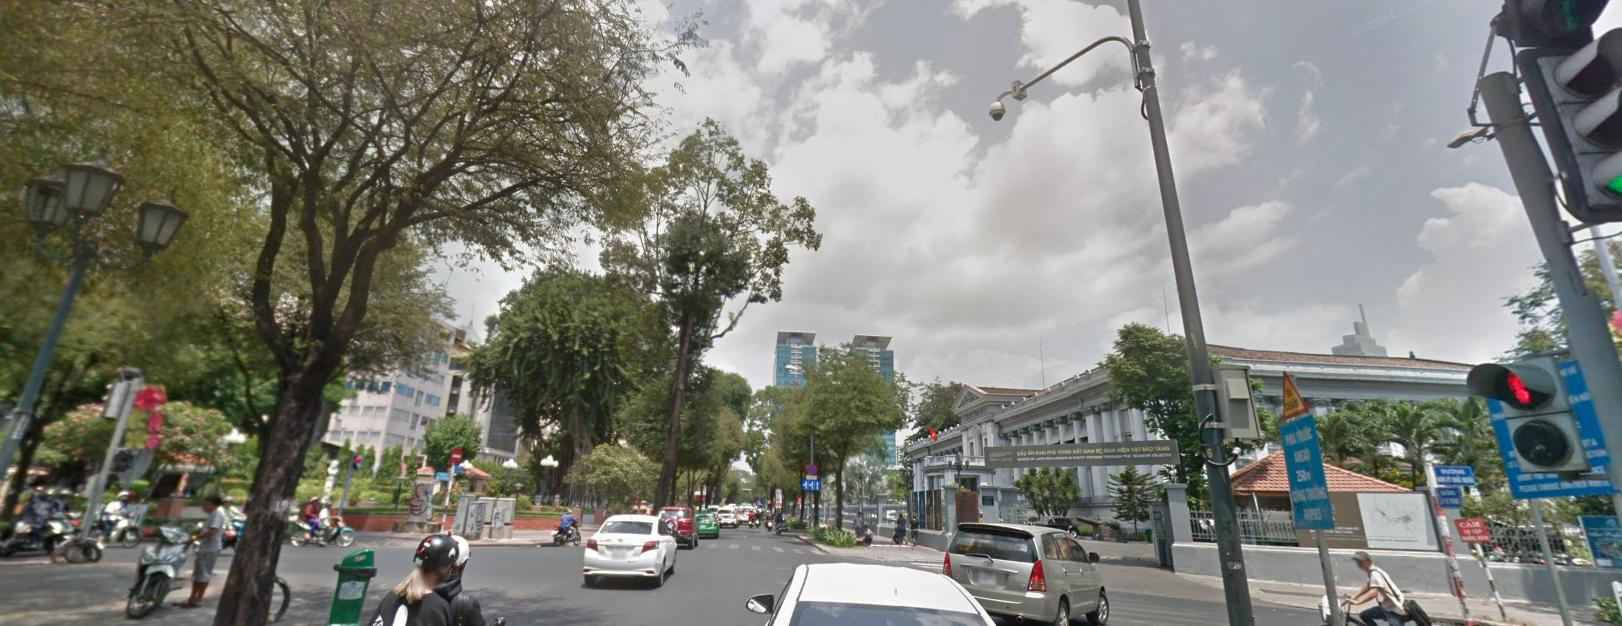Cam dung va do: (805, 461, 816, 473)
Cam nguoc chieu: (449, 445, 462, 462)
Nguy hiem: (1275, 366, 1312, 416)
